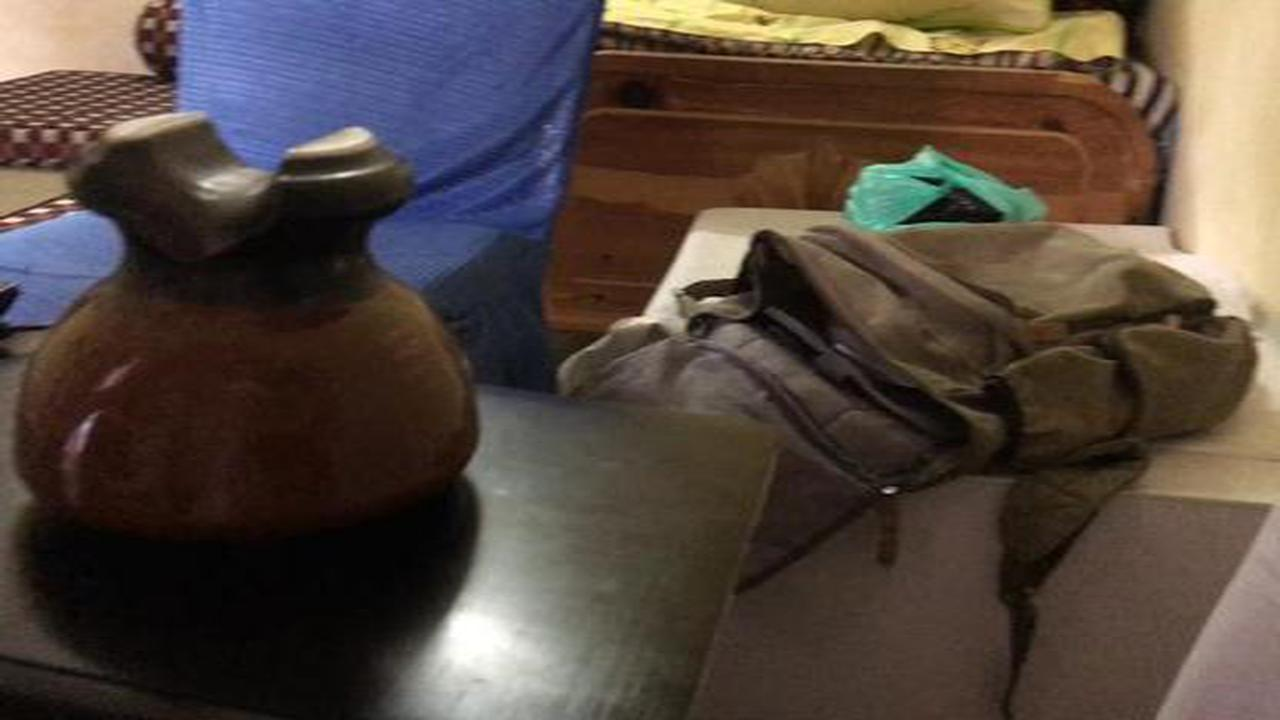insulator_pin: (8, 104, 493, 563)
